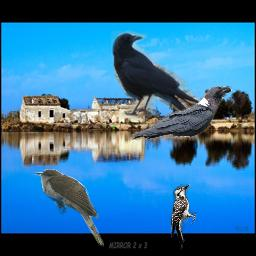Crow: (111, 29, 201, 121), (131, 86, 232, 140)
Cuckoo: (35, 169, 104, 247)
Woodpecker: (169, 183, 196, 251)
